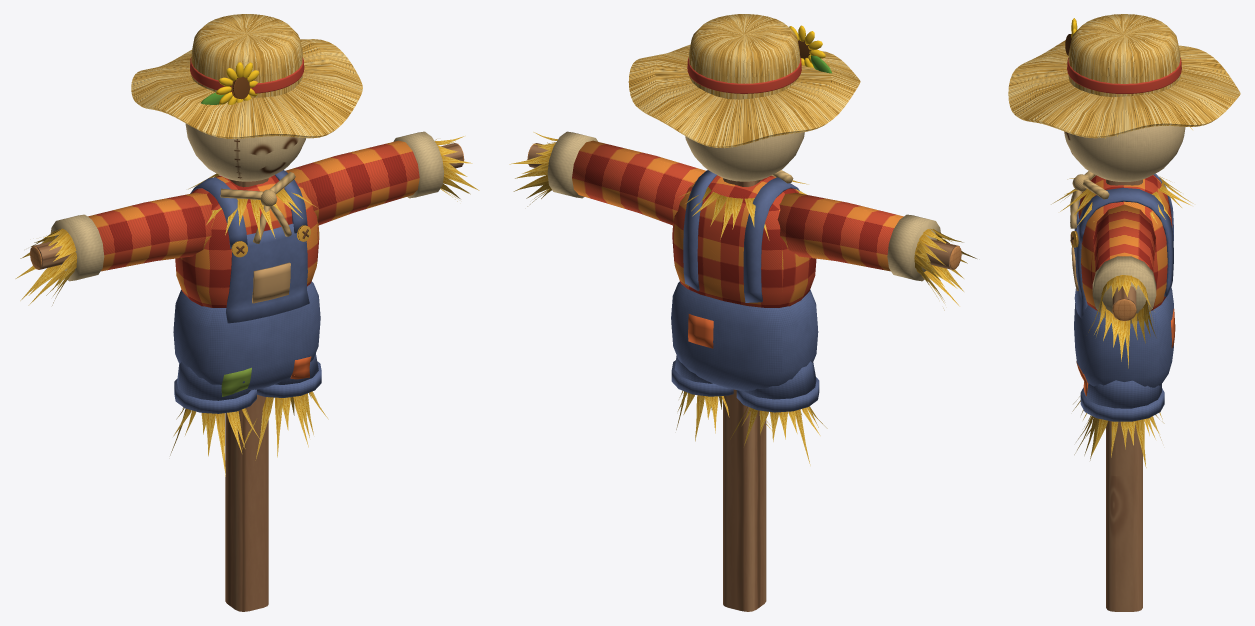
The model's file is scarecrow.glb.
3 views of the same model, side by side, from view 1: azimuth 30°, elevation 25°; view 2: azimuth 150°, elevation 25°; view 3: azimuth 270°, elevation 25° (orthographic).
Parts seen in each view (by area): view 1: model; view 2: model; view 3: model.
Part boxes in pixels (<box>): model: <box>15,14,479,611</box>; model: <box>509,14,976,611</box>; model: <box>1008,14,1240,611</box>.
Size of the model in its own units: 1.35 by 1.69 by 0.62.
Materials: 18 (9 with a texture image).
